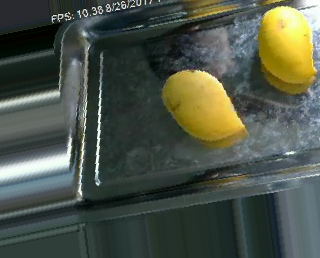Mango: (155, 66, 248, 143), (255, 4, 320, 87)
